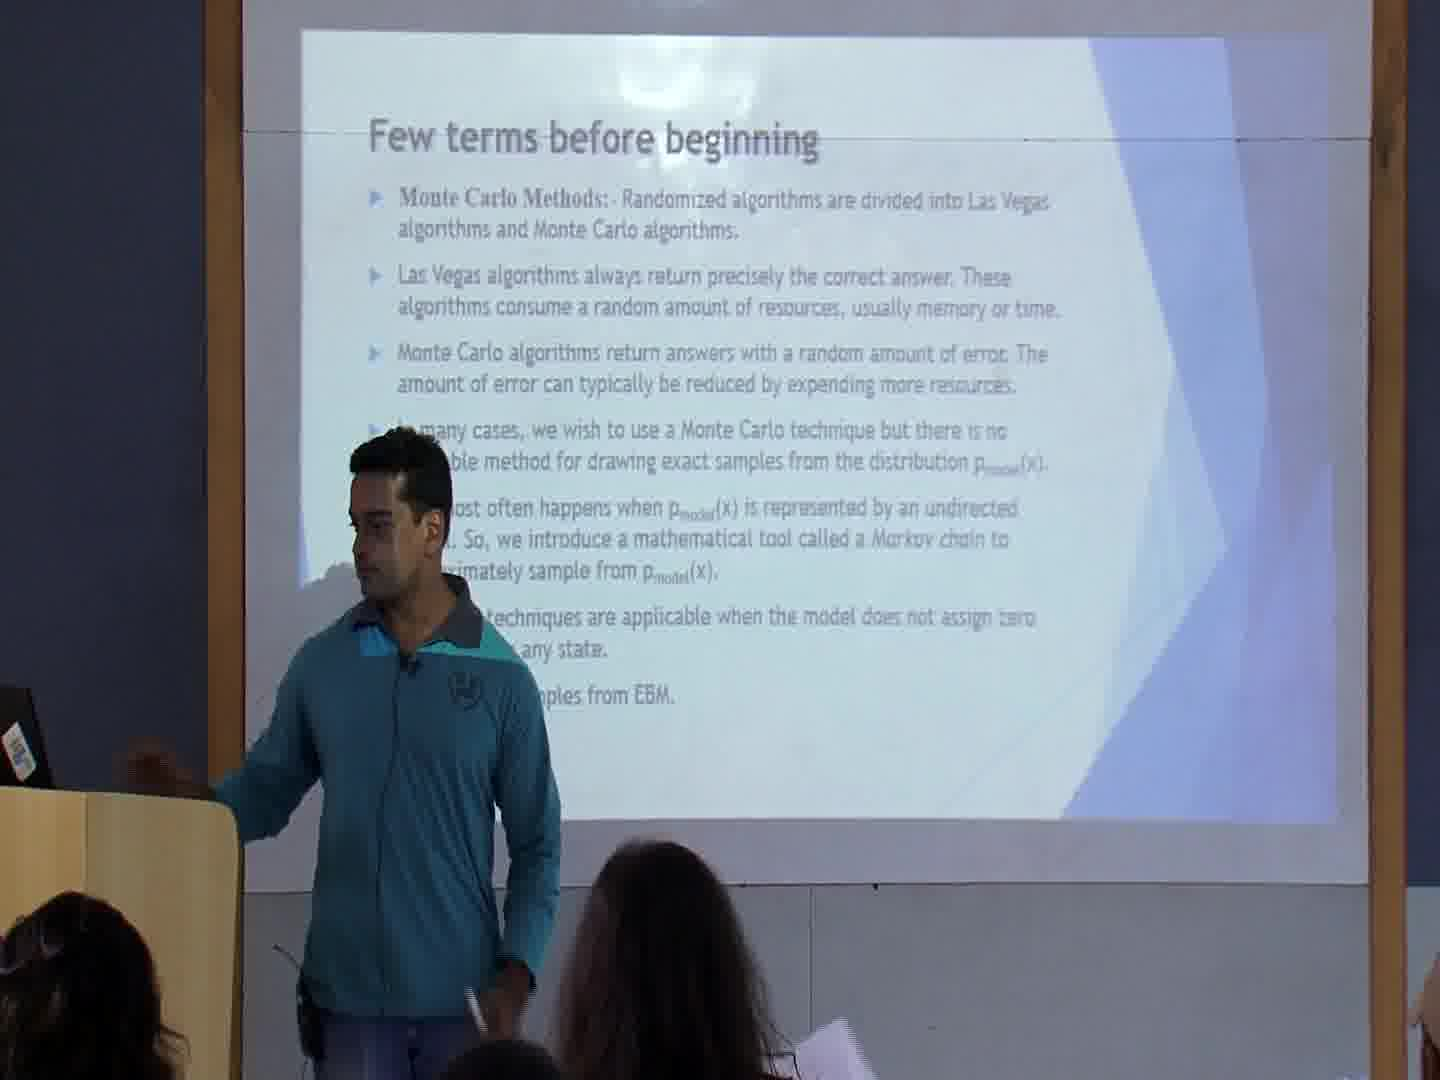slide: (298, 29, 1338, 825)
